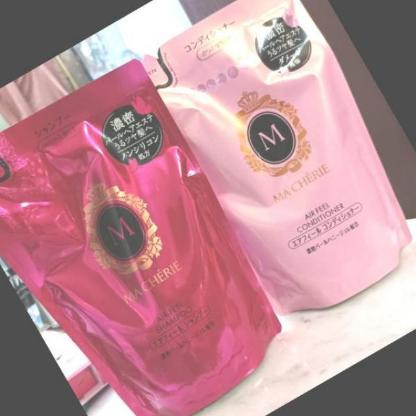Plastic Packaging: (0, 59, 280, 415), (140, 0, 414, 315)
